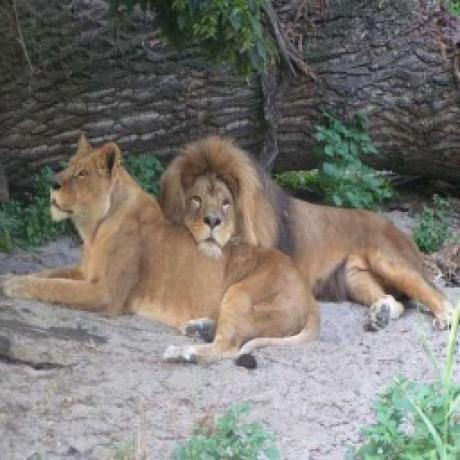Lion: (0, 130, 322, 372), (159, 133, 458, 332)
